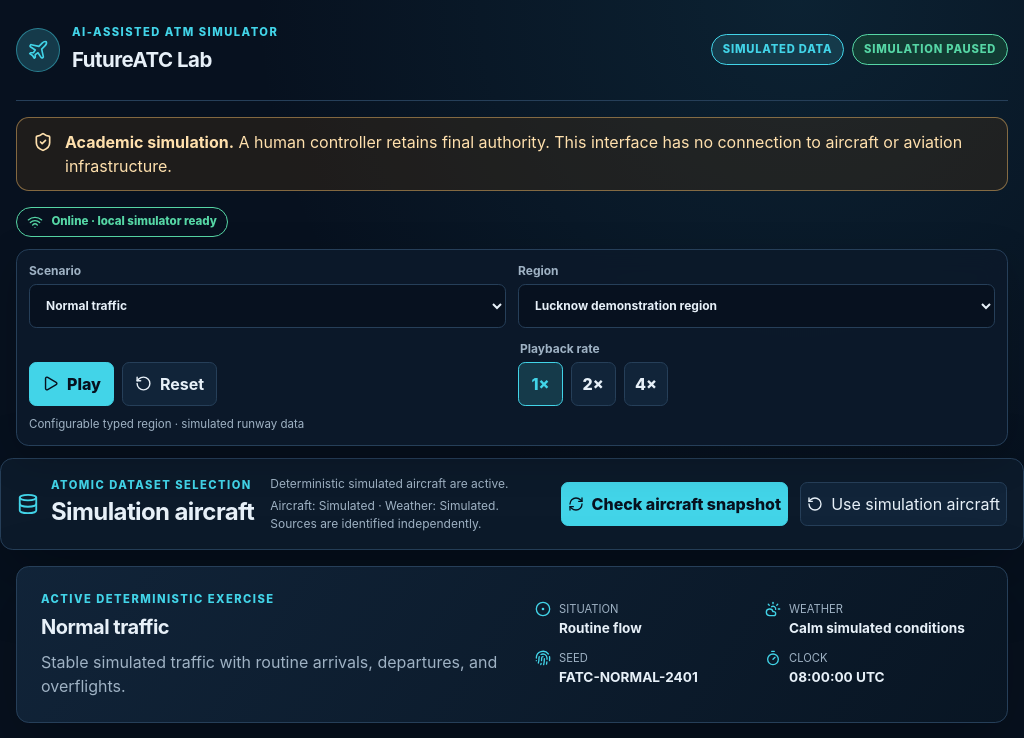
it: App simulation dashboard › updates simulated review and emergency controls without operational wording
Select "Emergency" in the dropdown labelled "Scenario". click: (268, 306)
box: [29, 284, 506, 328]
(page scrolled)
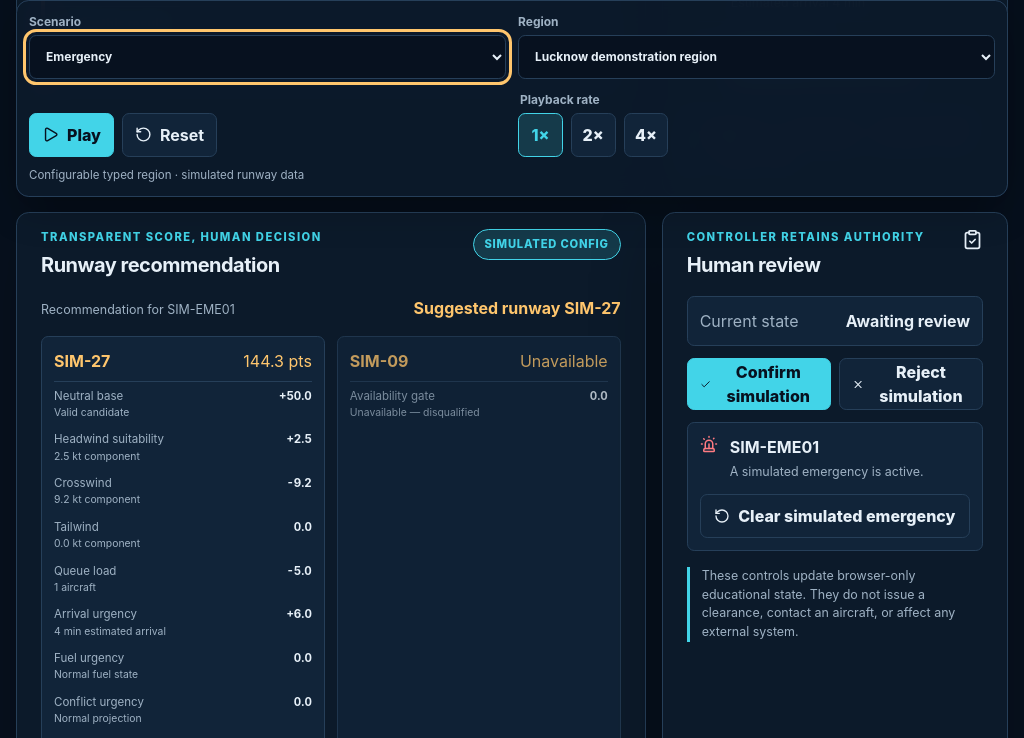
Expected: the text "Suggested runway SIM-27" is shown, [414, 296, 621, 320]
Expected: the text "Unavailable" is shown, [520, 349, 608, 373]
Click the button "Confirm simulation". click: (759, 384)
box: [687, 358, 831, 410]
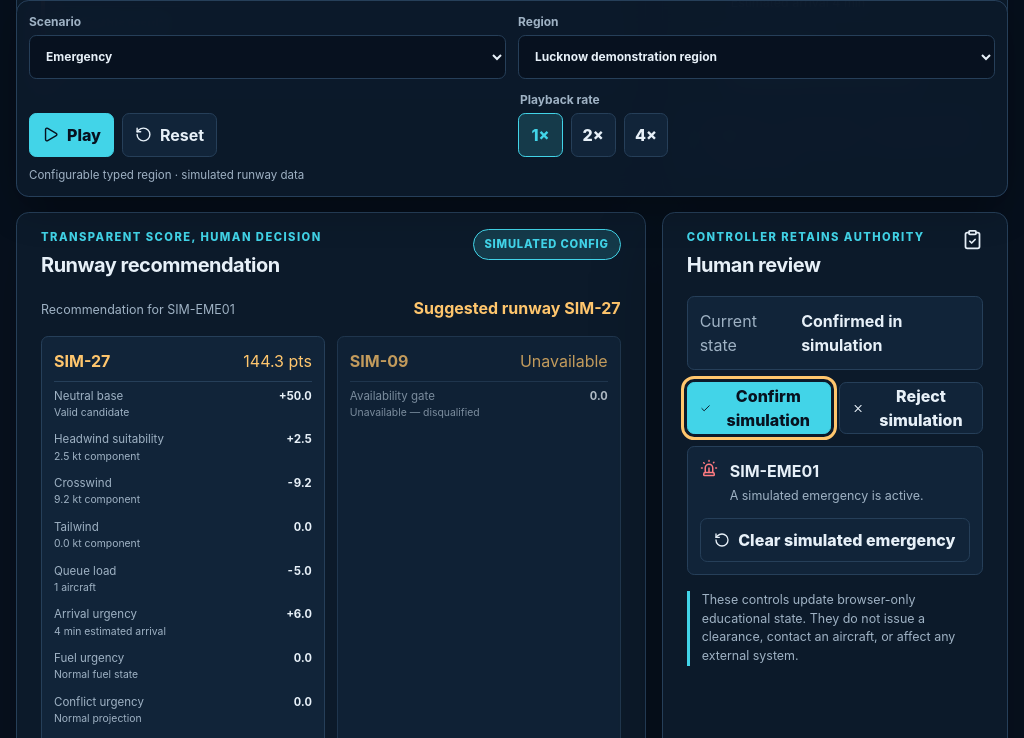
Expected: the text "Confirmed in simulation" is shown, [801, 311, 902, 355]
Click the button "Reject simulation". click: (911, 408)
box: [839, 382, 983, 434]
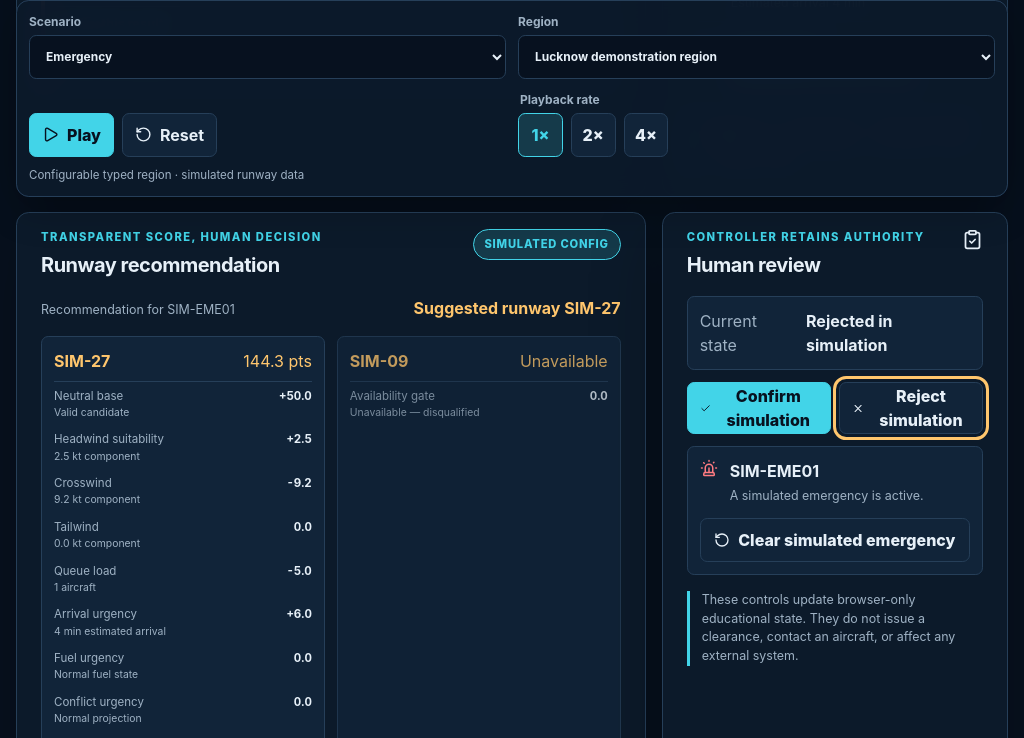
Expected: the text "Rejected in simulation" is shown, [806, 311, 892, 355]
Click the button "Clear simulated emergency". click: (835, 540)
box: [700, 518, 970, 562]
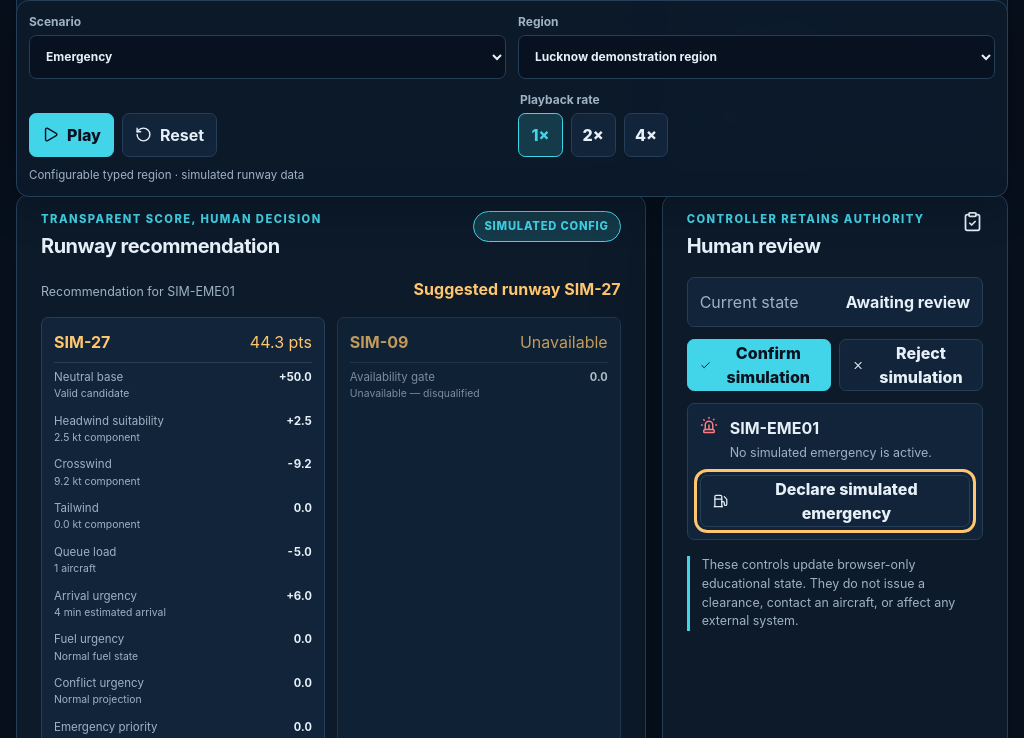
Expected: the text "No simulated emergency is active." is shown, [730, 445, 932, 460]
Click the button "Declare simulated emergency". click: (835, 501)
box: [700, 475, 970, 527]
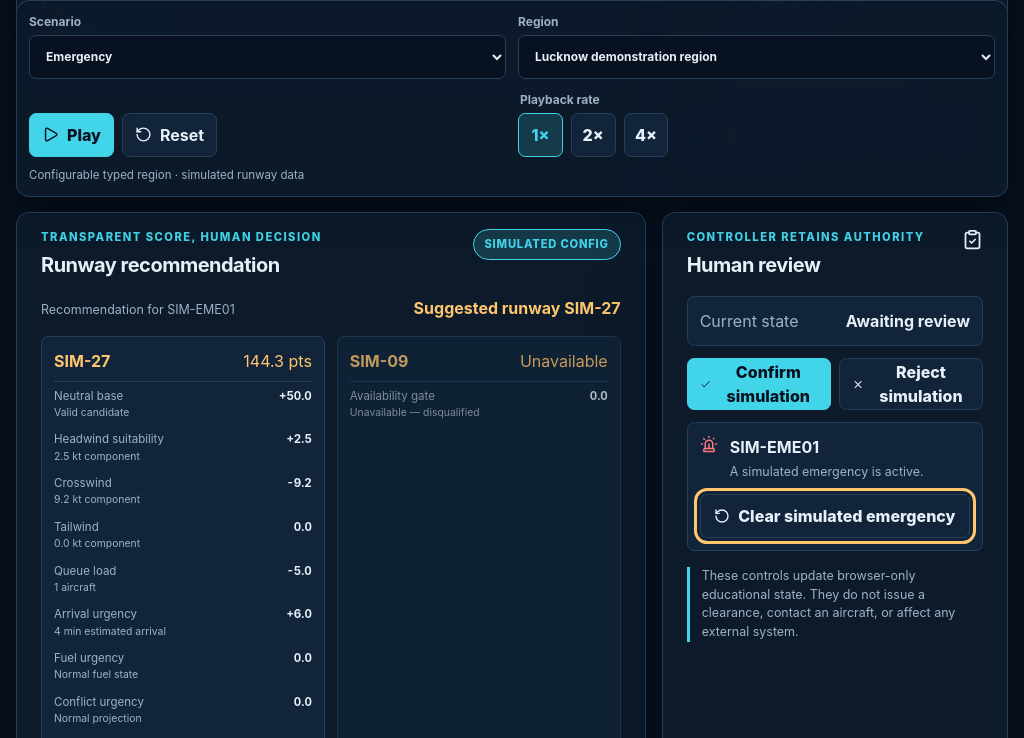
Expected: the text "A simulated emergency is active." is shown, [730, 464, 924, 479]
